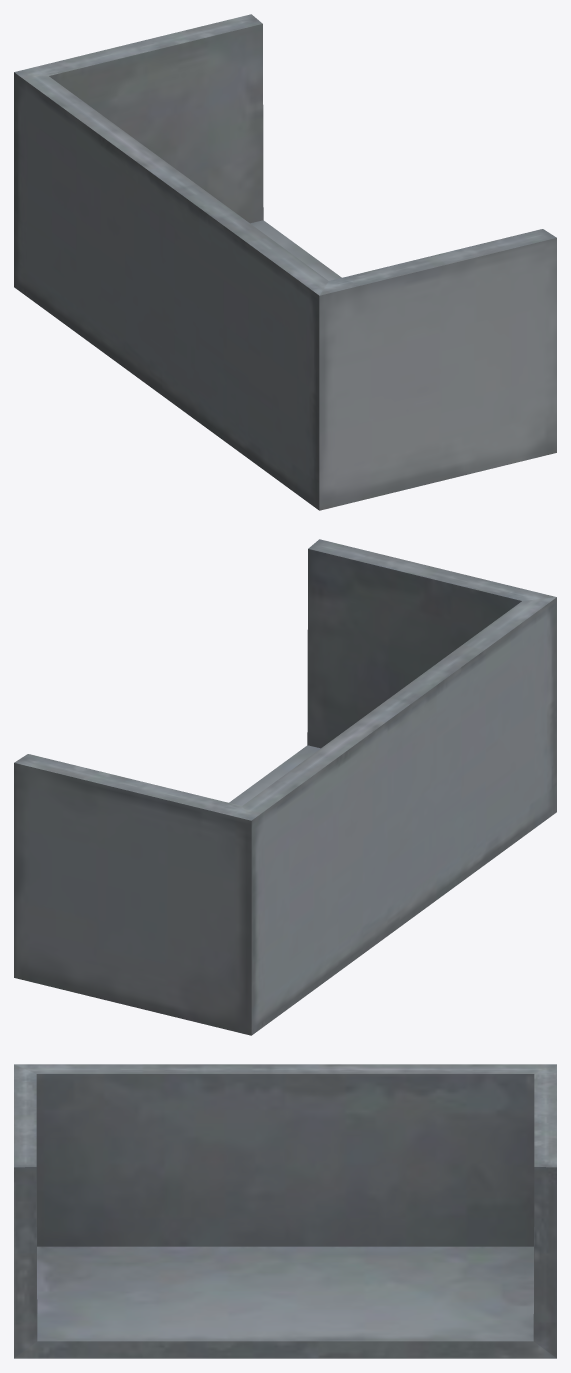
The model's file is M_Bedroom_TempatRemoteAC.fbx.
3 renders of one model, top to bottom at view 1: azimuth 30°, elevation 25°; view 2: azimuth 150°, elevation 25°; view 3: azimuth 270°, elevation 25°, orthographic. The views are drawn at different scales.
Visible parts, largest first — view 1: Cube.040; view 2: Cube.040; view 3: Cube.040.
Boxes of the visible parts, left/top/right/bottom form: Cube.040: left=14, top=14, right=556, bottom=510; Cube.040: left=14, top=539, right=556, bottom=1035; Cube.040: left=14, top=1064, right=556, bottom=1358.
Bounding box in the file's own units: 4.92 × 4.25 × 10.95.
